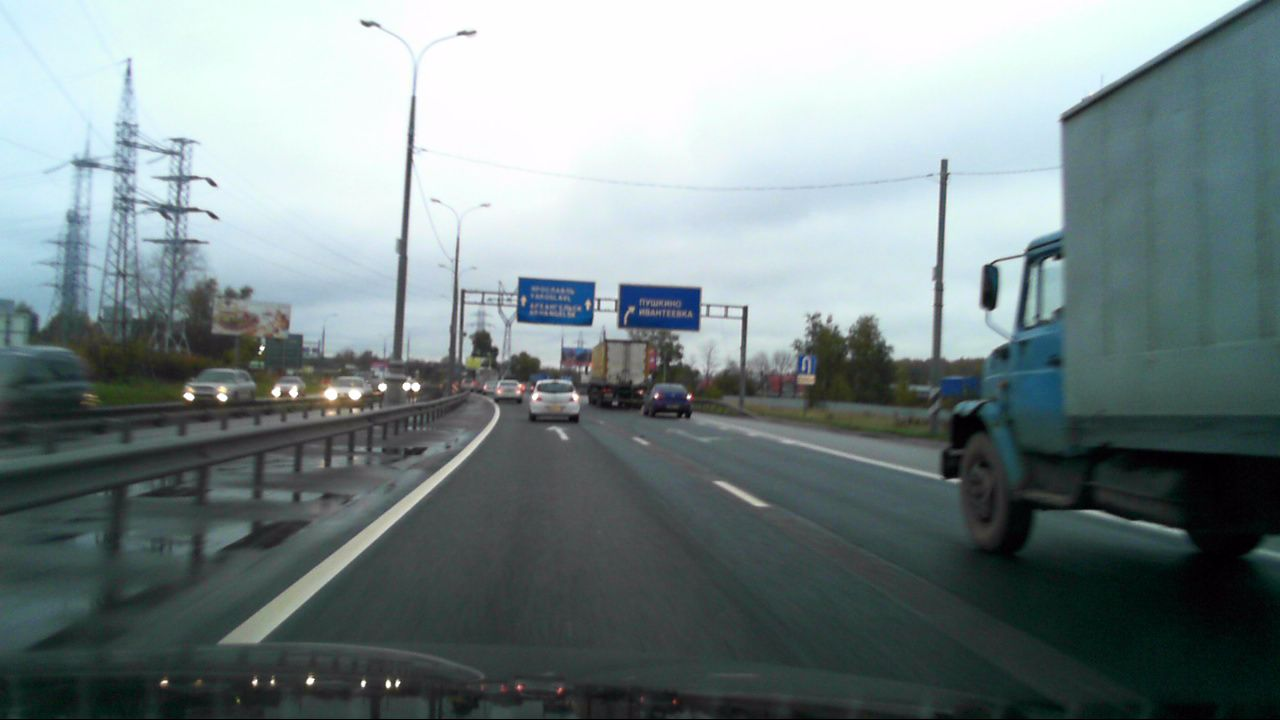U-turn: (799, 354, 816, 376)
